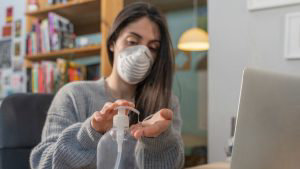with_mask: (111, 14, 168, 89)
